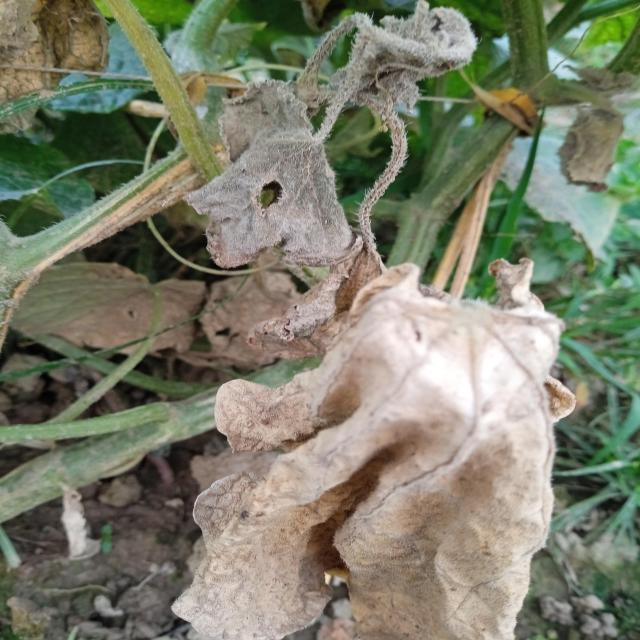cucumber_bacterial: (176, 298, 562, 640), (300, 0, 483, 215), (183, 75, 360, 277)
